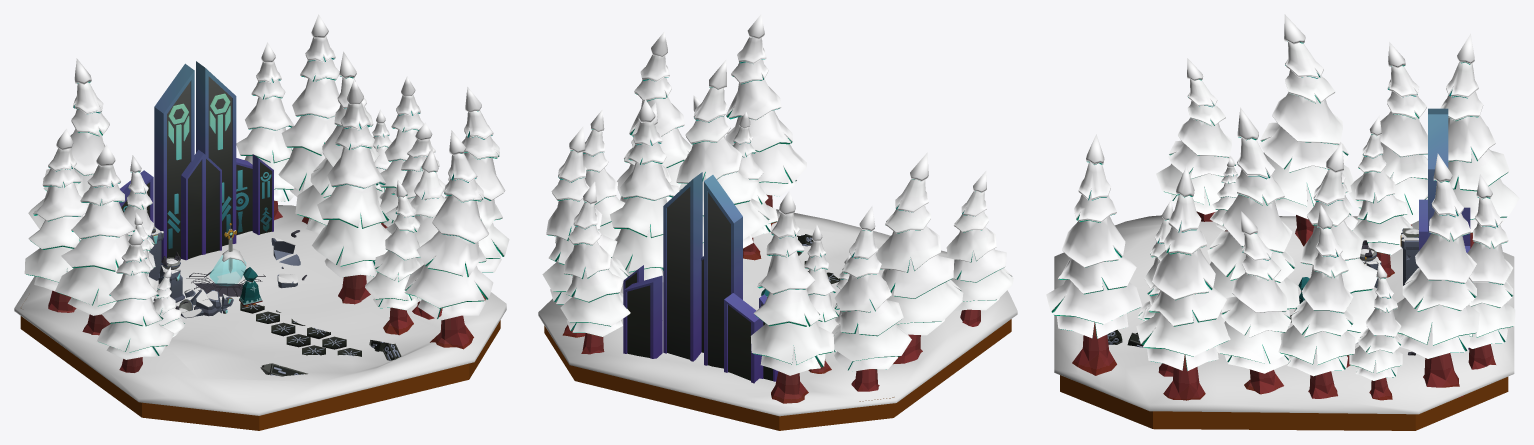
File: el_inicio_-_the_beggining.glb
The picture shows the model from 3 angles, left to right: view 1: azimuth 30°, elevation 25°; view 2: azimuth 150°, elevation 25°; view 3: azimuth 270°, elevation 25°; orthographic projection. The views are drawn at different scales.
Visible parts, largest first — view 1: Arbol nevado.000, SUELO, ALTAR, Arbol nevado.019, ceramica, HIELO, base1, PRIME, base5, Arbol nevado.016, base2, base3_cell.007; view 2: Arbol nevado.000, SUELO, ALTAR, Arbol nevado.019; view 3: Arbol nevado.000, SUELO, Arbol nevado.019, ALTAR, Arbol nevado.018, base3_cell.007.
Part boxes in pixels (box(x1,y1,x2,y2)): Arbol nevado.000: box(24, 14, 509, 359); SUELO: box(14, 205, 506, 430); ALTAR: box(119, 61, 273, 296); Arbol nevado.019: box(26, 56, 503, 349); ceramica: box(240, 303, 361, 356); HIELO: box(209, 248, 246, 285); base1: box(181, 289, 233, 318); PRIME: box(239, 267, 262, 306); base5: box(271, 238, 300, 268); Arbol nevado.016: box(99, 258, 167, 372); base2: box(153, 266, 195, 302); base3_cell.007: box(149, 225, 163, 280); Arbol nevado.000: box(542, 14, 1013, 375); SUELO: box(538, 209, 1017, 430); ALTAR: box(623, 172, 778, 383); Arbol nevado.019: box(548, 59, 960, 403); Arbol nevado.000: box(1046, 14, 1519, 380); SUELO: box(1054, 215, 1514, 430); Arbol nevado.019: box(1052, 41, 1512, 400); ALTAR: box(1419, 108, 1470, 349); Arbol nevado.018: box(1136, 190, 1230, 370); base3_cell.007: box(1400, 232, 1418, 285).
Bounding box in the file's own units: 10.56 × 6.34 × 10.16.
Materials: 10 (8 with a texture image).
